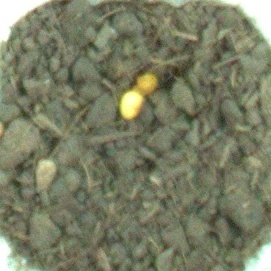chilli seed: (119, 89, 146, 122), (130, 71, 159, 100)
